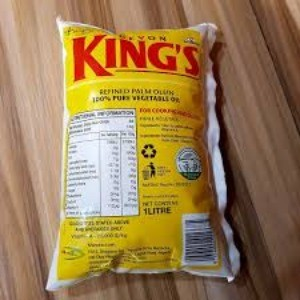vegetable oil_brain food: (43, 68, 221, 249)
